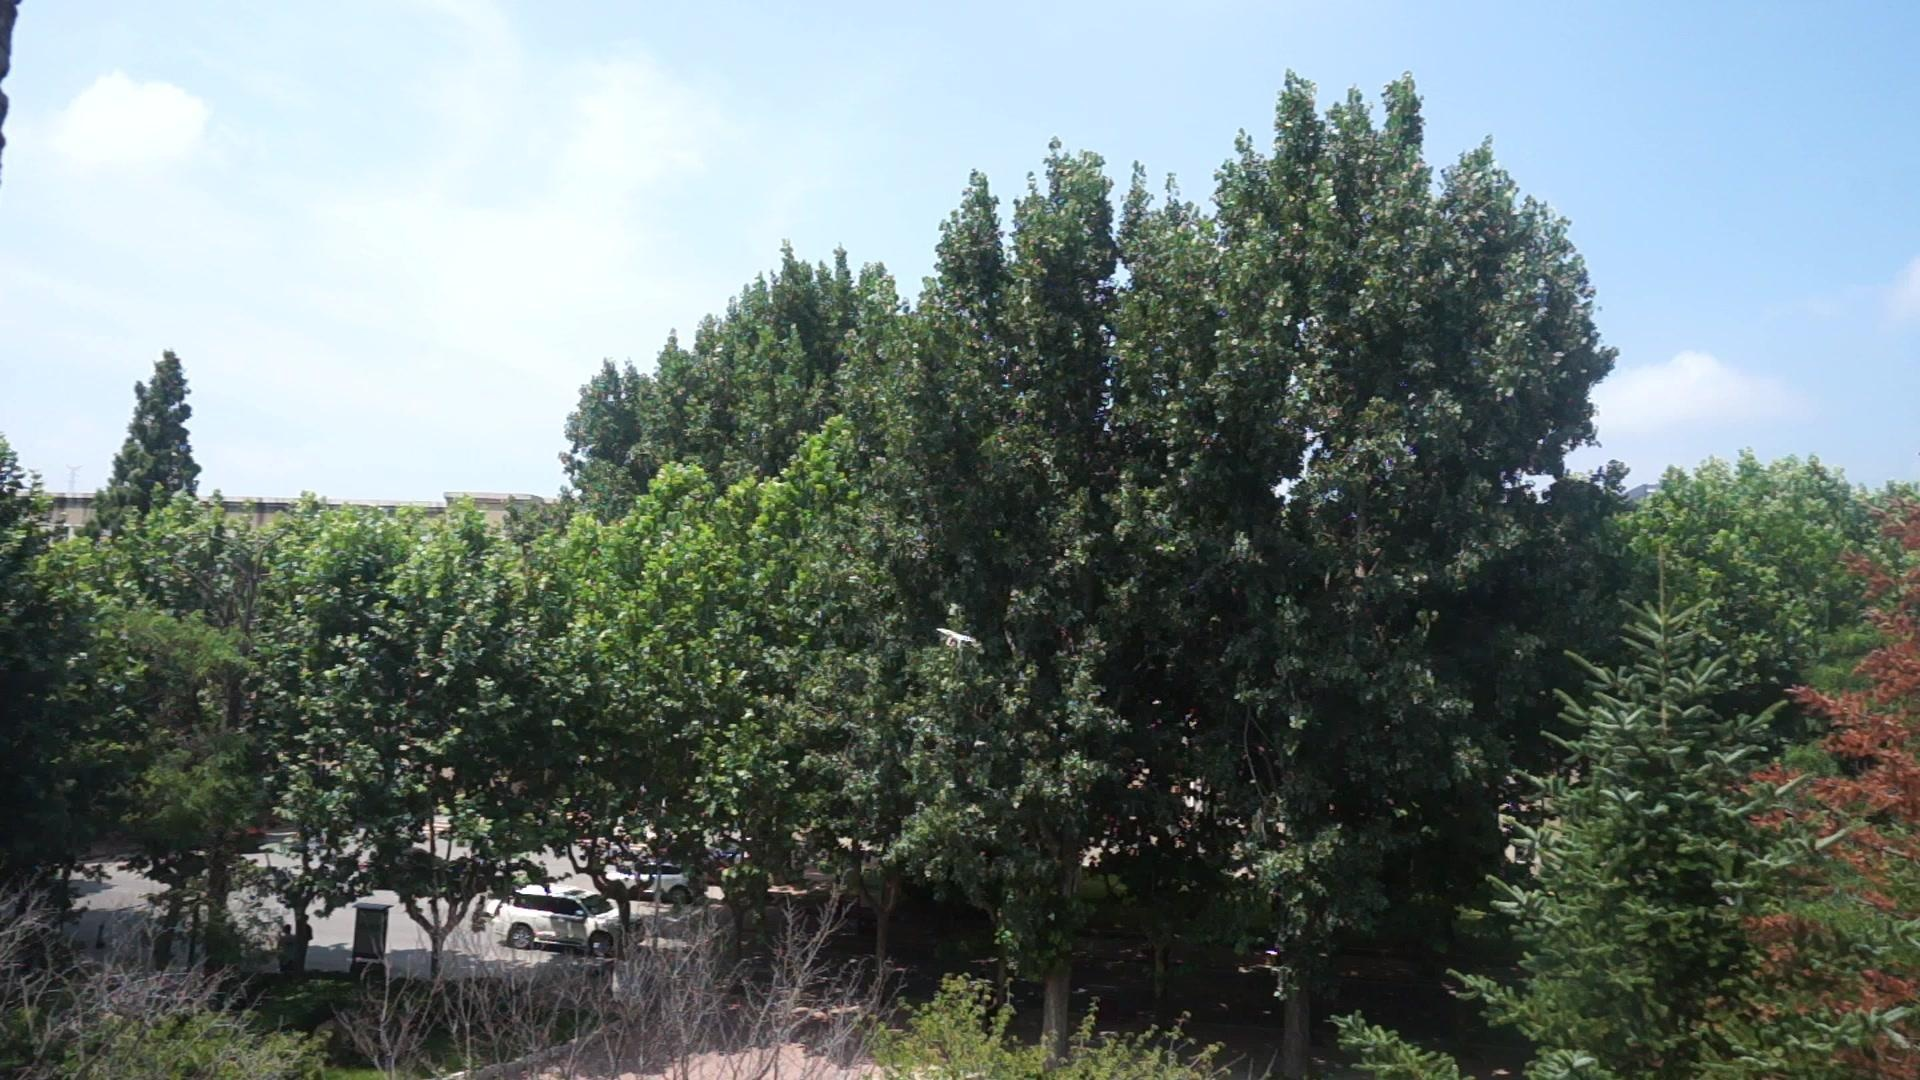UAV: (938, 629, 973, 649)
